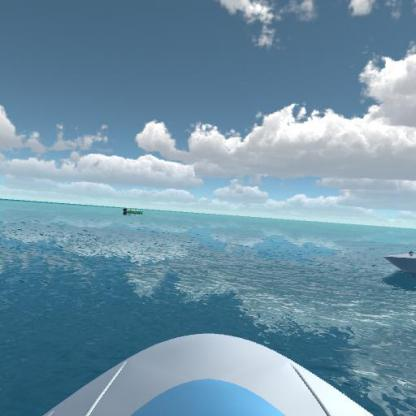usv0: (120, 202, 146, 216)
usv1: (379, 242, 415, 279)
